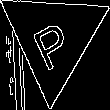P_NW: (28, 8, 78, 70)
